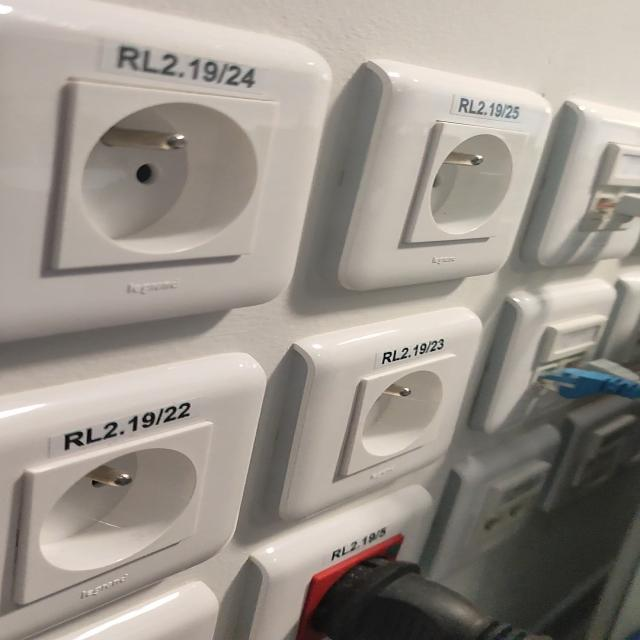house plug: (57, 81, 278, 270), (20, 420, 209, 603), (409, 123, 527, 243), (345, 356, 454, 477)
